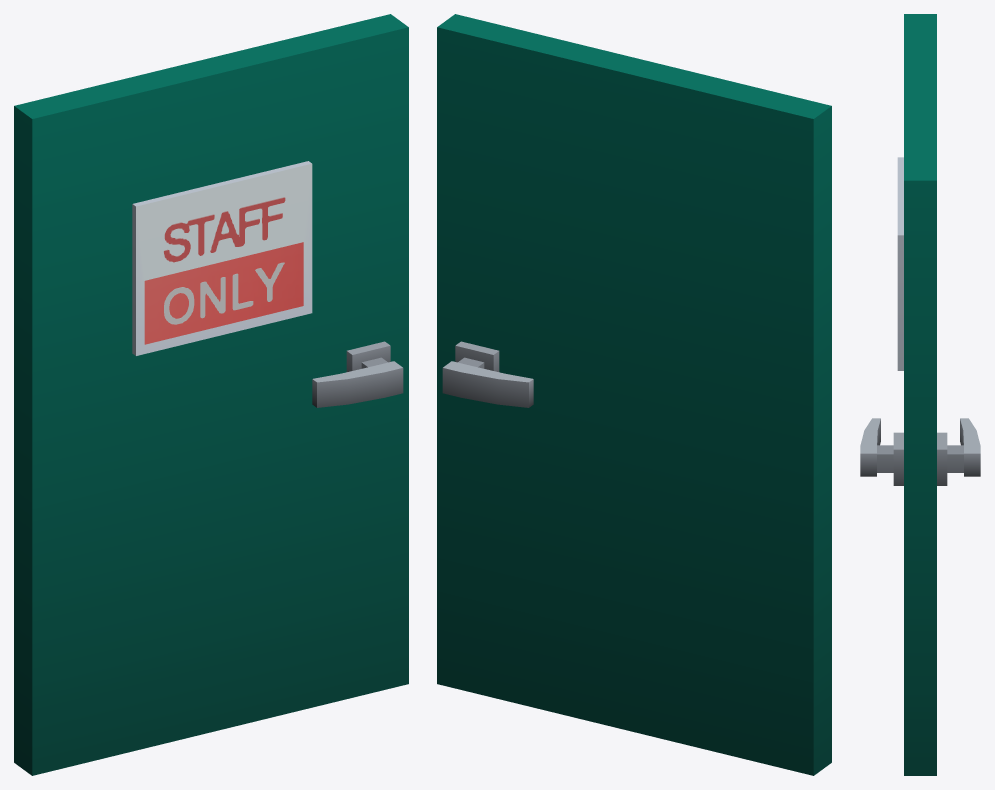
Rendered from Door_wSign_StaffOnly_Laundromat.fbx.
3 views of the same model, side by side, from view 1: azimuth 30°, elevation 25°; view 2: azimuth 150°, elevation 25°; view 3: azimuth 270°, elevation 25° (orthographic). The views are drawn at different scales.
Visible parts, largest first — view 1: Door_wSign_StaffOnly.Laundromat, Door_wSign_StaffOnly_Handle_0.Laundromat; view 2: Door_wSign_StaffOnly.Laundromat, Door_wSign_StaffOnly_Handle_1.Laundromat; view 3: Door_wSign_StaffOnly.Laundromat, Door_wSign_StaffOnly_Handle_0.Laundromat, Door_wSign_StaffOnly_Handle_1.Laundromat.
Part boxes in pixels (bbox=[...]): Door_wSign_StaffOnly.Laundromat: bbox=[14, 14, 408, 775]; Door_wSign_StaffOnly_Handle_0.Laundromat: bbox=[312, 357, 403, 407]; Door_wSign_StaffOnly.Laundromat: bbox=[437, 14, 831, 775]; Door_wSign_StaffOnly_Handle_1.Laundromat: bbox=[442, 357, 533, 407]; Door_wSign_StaffOnly.Laundromat: bbox=[893, 14, 947, 775]; Door_wSign_StaffOnly_Handle_0.Laundromat: bbox=[860, 418, 893, 476]; Door_wSign_StaffOnly_Handle_1.Laundromat: bbox=[947, 418, 980, 476].
Bounding box in the file's own units: 150 × 250 × 45.71.
2 materials, 2 textured.
